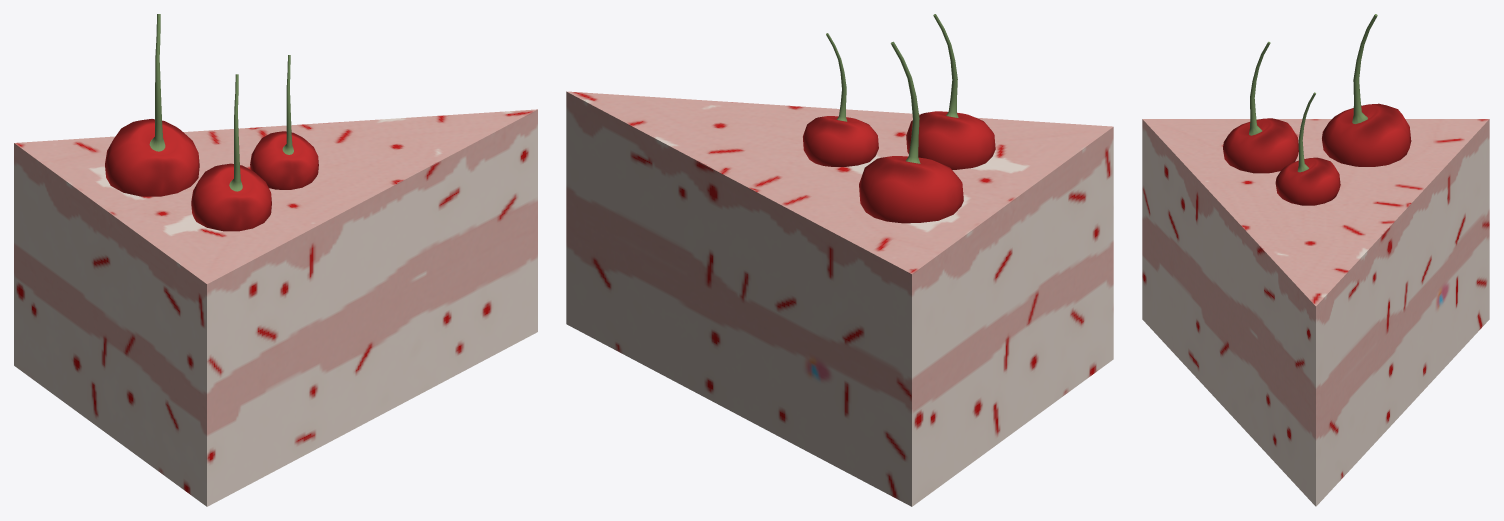
File: Cake_C.glb
3 views of the same model, side by side, from view 1: azimuth 30°, elevation 25°; view 2: azimuth 150°, elevation 25°; view 3: azimuth 270°, elevation 25° (orthographic). The views are drawn at different scales.
Parts seen in each view (by area): view 1: Cake_C; view 2: Cake_C; view 3: Cake_C.
Boxes of the visible parts, x1=… form: Cake_C: x1=14, y1=14, x2=537, y2=506; Cake_C: x1=566, y1=14, x2=1113, y2=506; Cake_C: x1=1142, y1=14, x2=1489, y2=506.
Bounding box in the file's own units: 0.5769 × 0.4882 × 0.4514.
Materials: 1 (1 with a texture image).
